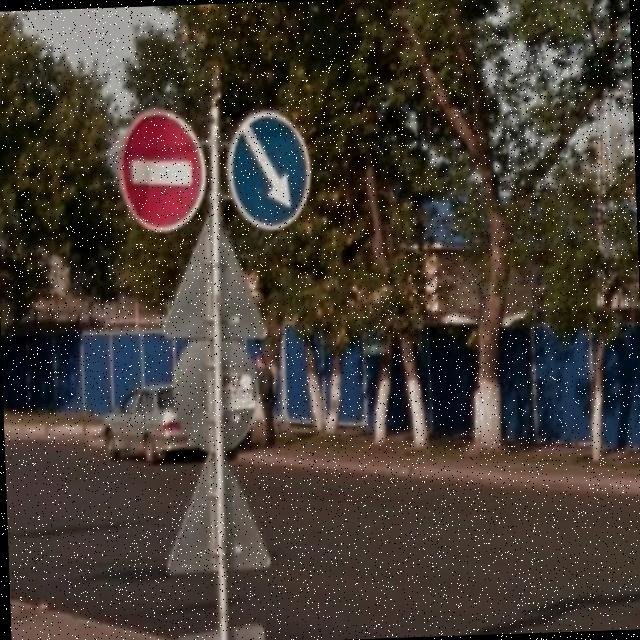Zakaz wjazdu: (109, 102, 214, 240)
